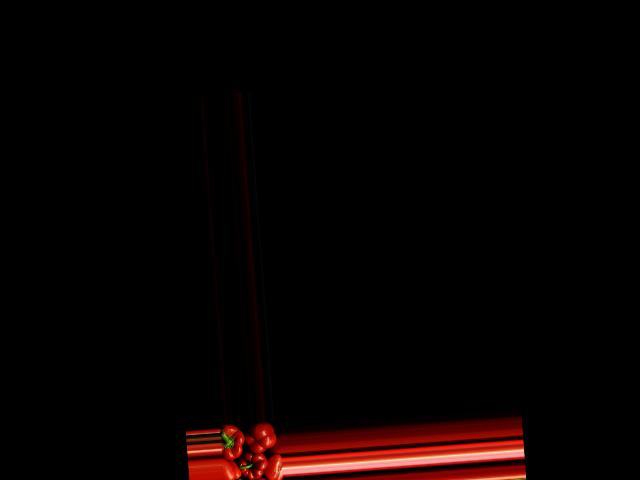bell_pepper: (265, 452, 282, 480)
